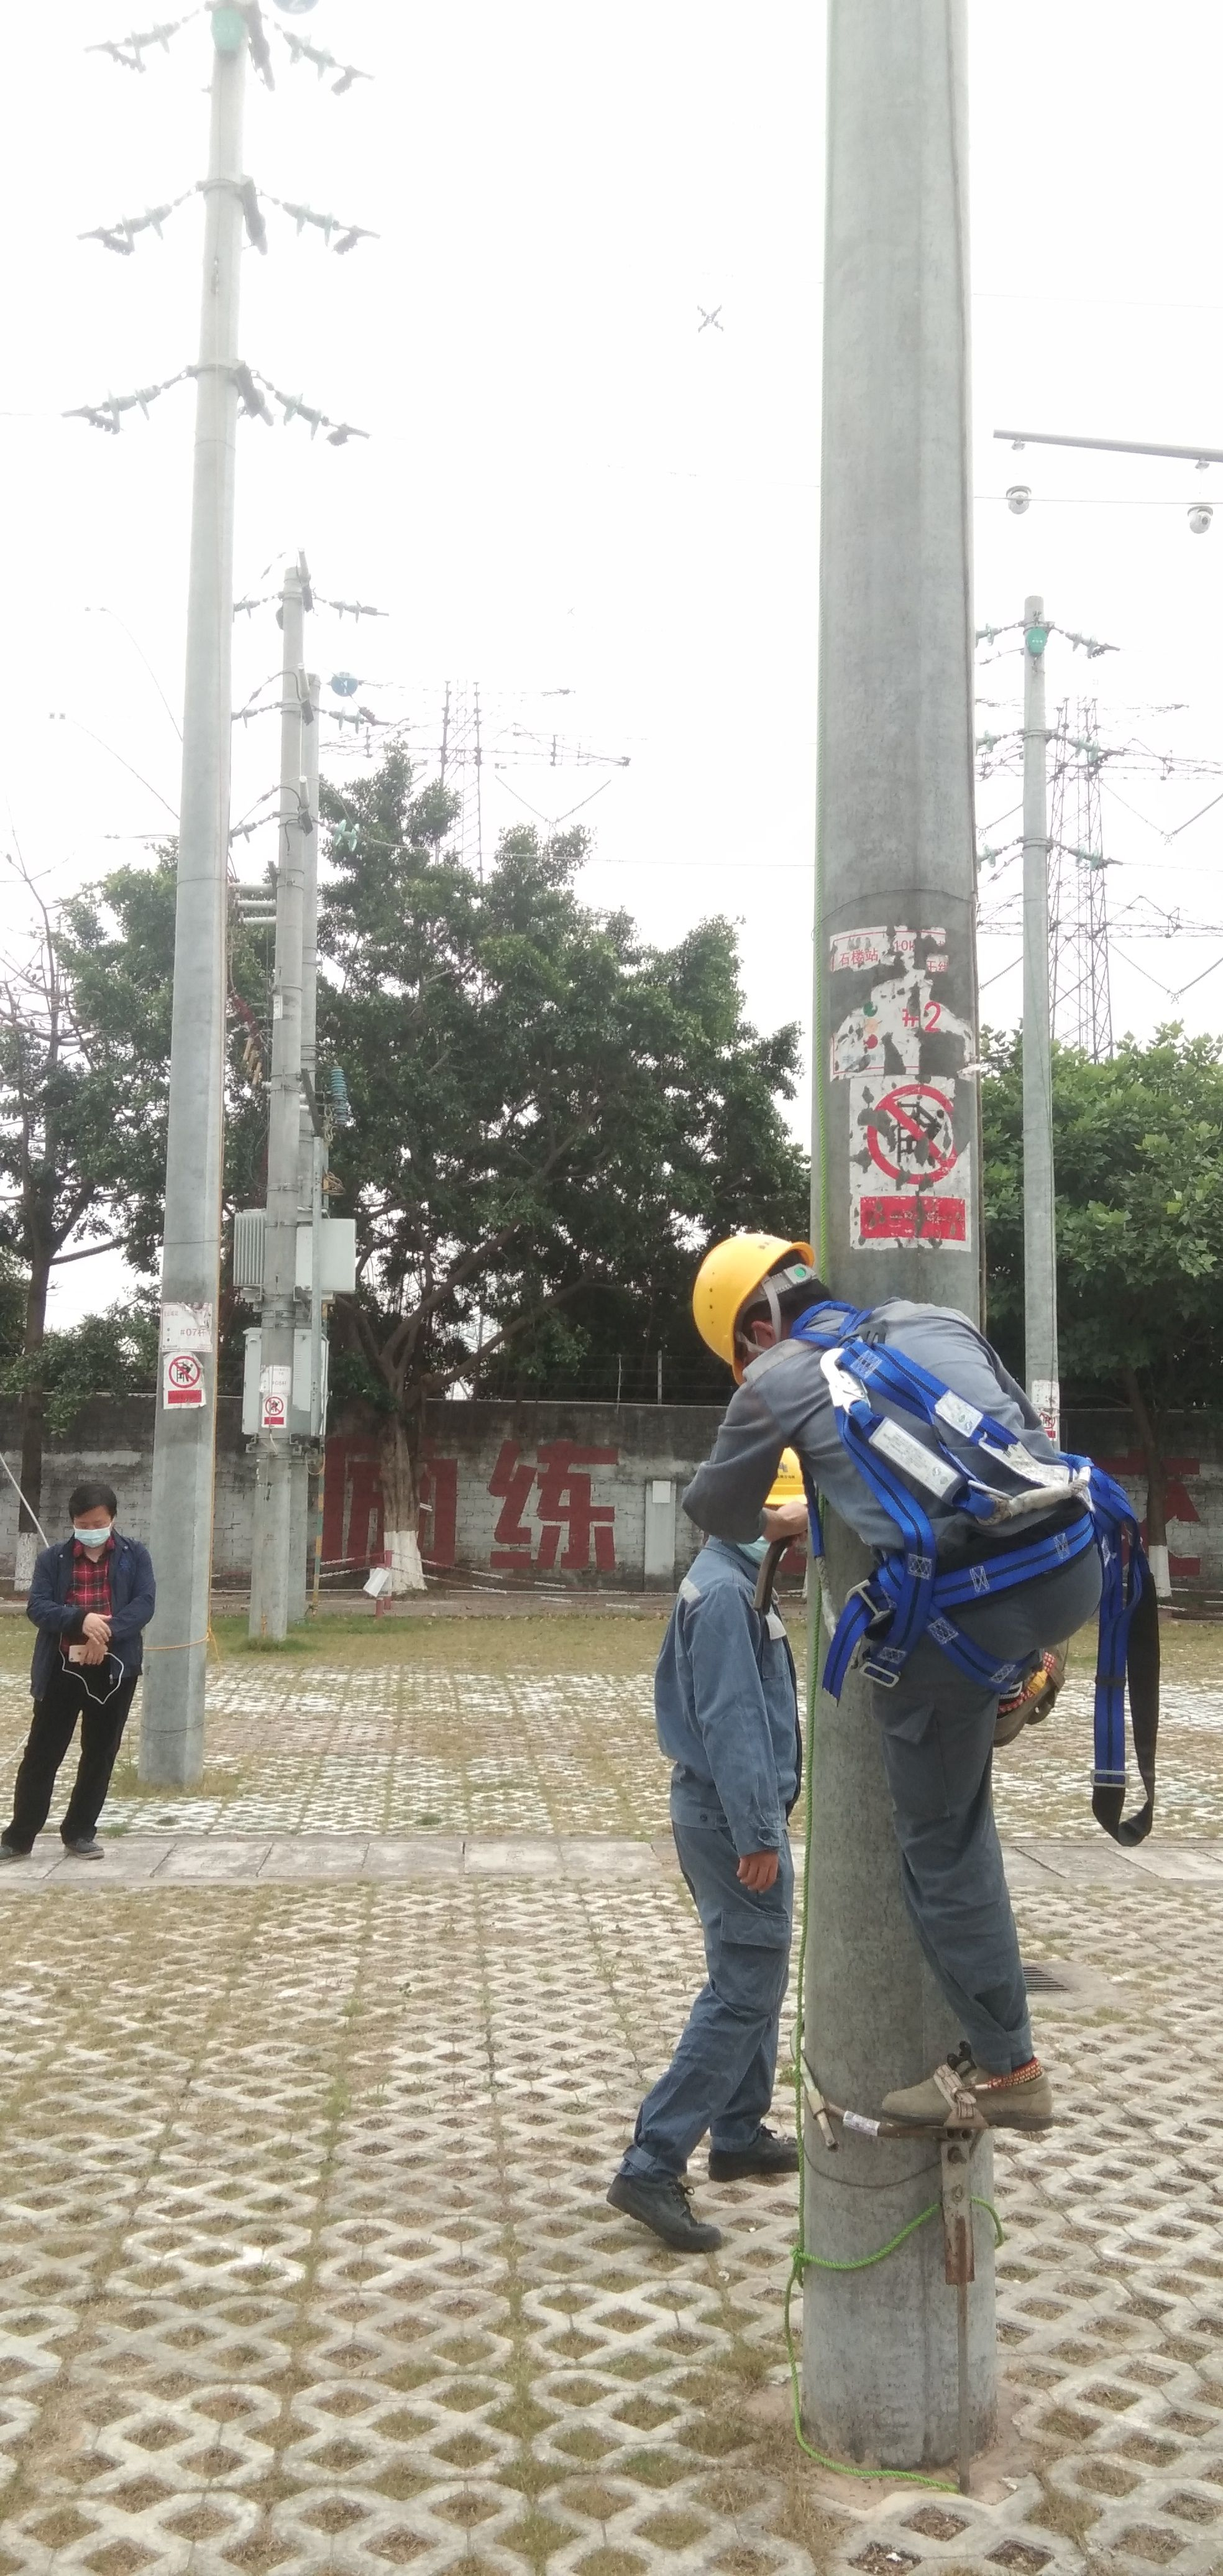downcloth: (20, 1674, 128, 1845)
downsuit: (888, 1587, 1064, 2075), (645, 1842, 788, 2169)
upcloth: (34, 1538, 158, 1659)
upsuit: (729, 1291, 1077, 1554), (652, 1554, 806, 1809)
